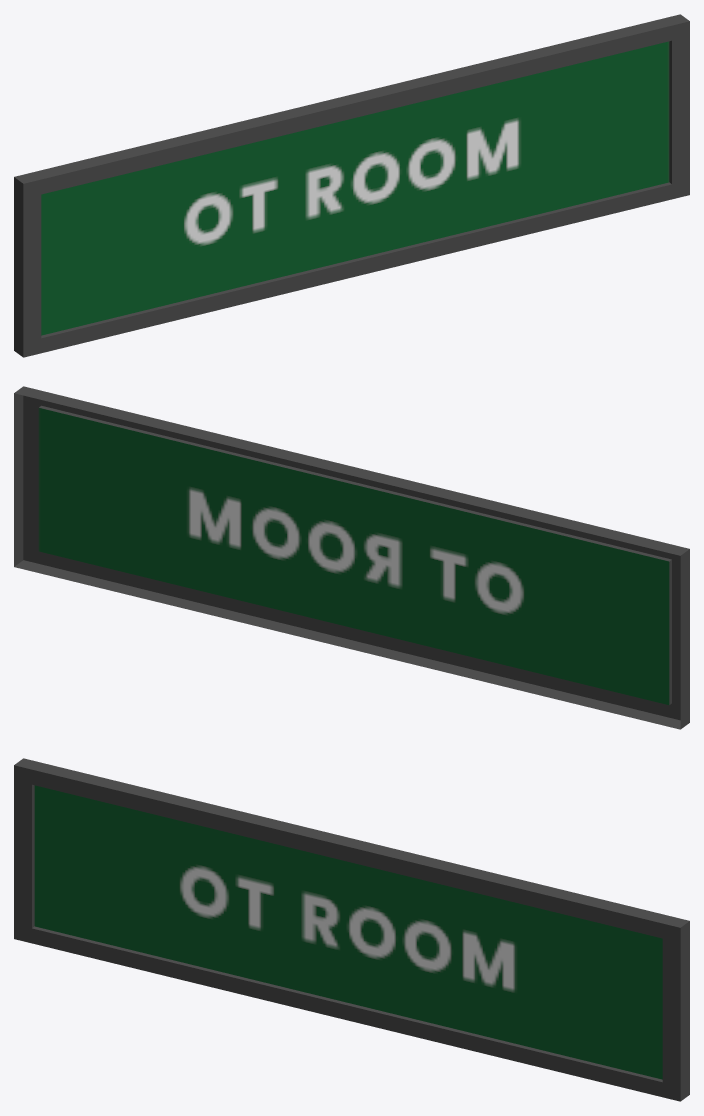
File: OTSign Board.fbx
The picture shows the model from 3 angles, top to bottom: view 1: azimuth 30°, elevation 25°; view 2: azimuth 150°, elevation 25°; view 3: azimuth 330°, elevation 25°; orthographic projection.
Parts seen in each view (by area): view 1: OT_Sign_Board; view 2: OT_Sign_Board; view 3: OT_Sign_Board.
Part boxes in pixels (left/top/right/bottom): OT_Sign_Board: left=14, top=14, right=689, bottom=357; OT_Sign_Board: left=14, top=386, right=689, bottom=729; OT_Sign_Board: left=14, top=758, right=689, bottom=1101.
Bounding box in the file's own units: 76.91 × 19.17 × 1.9.
